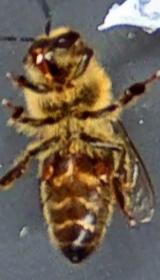varroa_mite: (33, 156, 58, 181), (90, 162, 114, 184)
